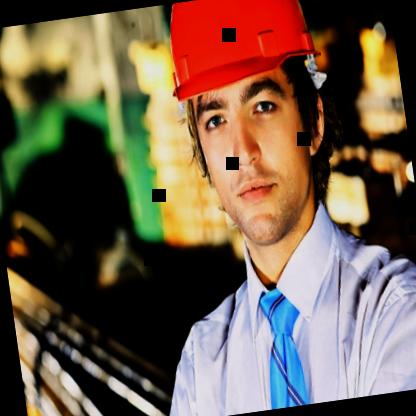helmet: (146, 0, 367, 307)
